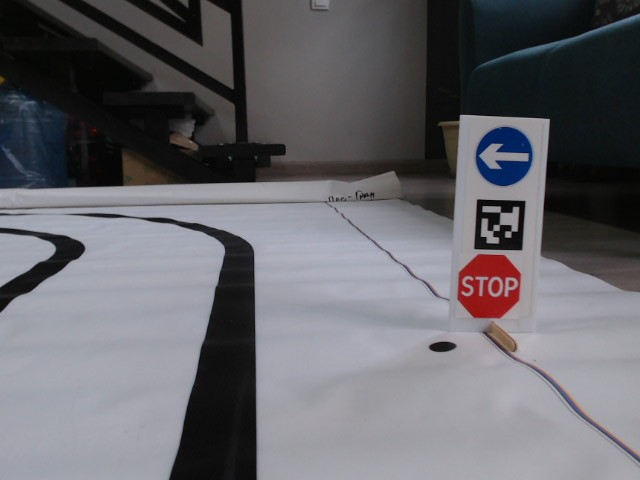Stop: (456, 252, 522, 319)
